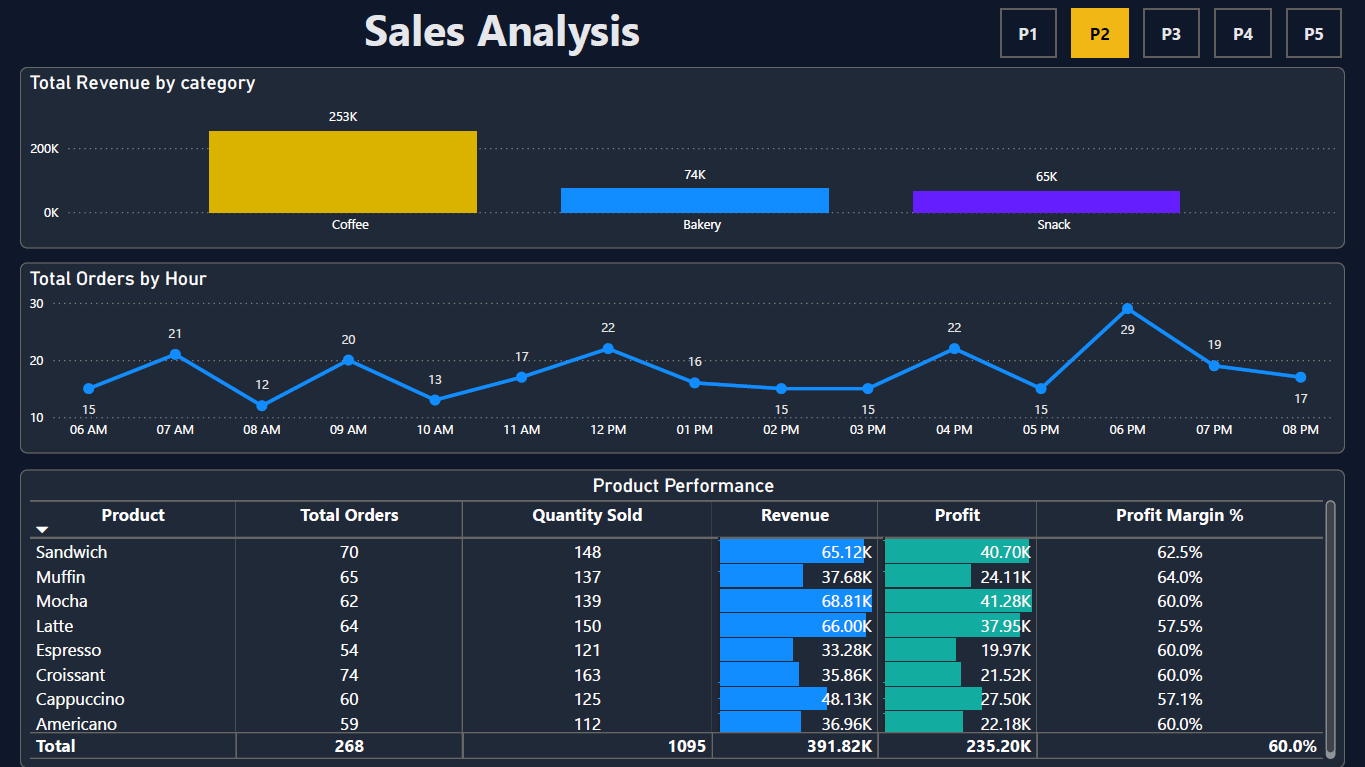

This screenshot's page, from the dashboard's own definition file:
{"tool":"powerbi","page":{"name":"Page 2","canvas":[1280,720],"ordinal":1},"visuals":[{"type":"shape","box":[200,0,540.8,55],"z":0},{"type":"tableEx","title":"Product Performance","fields":{"Values":["products.product_name","MeasureTable.Total Orders","Sum(order_details.quantity)","MeasureTable.Total Revenue","MeasureTable.Total Profit","MeasureTable.Profit Margin %"]},"box":[19.1,440.6,1240.7,280],"z":1000},{"type":"lineChart","title":"Total Orders by Hour","fields":{"Y":["MeasureTable.Total Orders"],"Category":["orders.Hour Label"]},"box":[19.1,246.5,1240.7,179.7],"z":2000},{"type":"columnChart","fields":{"Category":["products.category"],"Y":["MeasureTable.Total Revenue"]},"box":[19.1,63.6,1240.7,170.2],"z":3000},{"type":"group","id":"g1","title":"Group 2","box":[937.2,8.6,320,45],"z":5001},{"type":"actionButton","title":"P1","box":[1071.3,8.7,52.5,45.9],"z":9000,"group":"g1"},{"type":"actionButton","title":"P1","box":[1138.2,8.6,52.5,45.9],"z":10000,"group":"g1"},{"type":"actionButton","title":"P1","box":[1205.1,8.6,52.5,45.9],"z":11000,"group":"g1"},{"type":"actionButton","title":"P1","box":[1004.3,8.7,52.5,45.9],"z":12000,"group":"g1"},{"type":"actionButton","title":"P1","box":[937.2,8.7,52.5,45.9],"z":13000,"group":"g1"}]}

Visuals, with their boxes in screenshot pixels (x1, y1, x2, y2), scaled from the page's 1280x720 canvas onto the 1365x767 screenshot:
shape: bbox=(213, 0, 790, 59)
"Product Performance" tableEx: bbox=(20, 469, 1343, 766)
"Total Orders by Hour" lineChart: bbox=(20, 263, 1343, 454)
columnChart - products.category x MeasureTable.Total Revenue: bbox=(20, 68, 1343, 249)
"Group 2" group: bbox=(999, 9, 1341, 57)
"P1" actionButton: bbox=(1142, 9, 1198, 58)
"P1" actionButton: bbox=(1214, 9, 1270, 58)
"P1" actionButton: bbox=(1285, 9, 1341, 58)
"P1" actionButton: bbox=(1071, 9, 1127, 58)
"P1" actionButton: bbox=(999, 9, 1055, 58)
